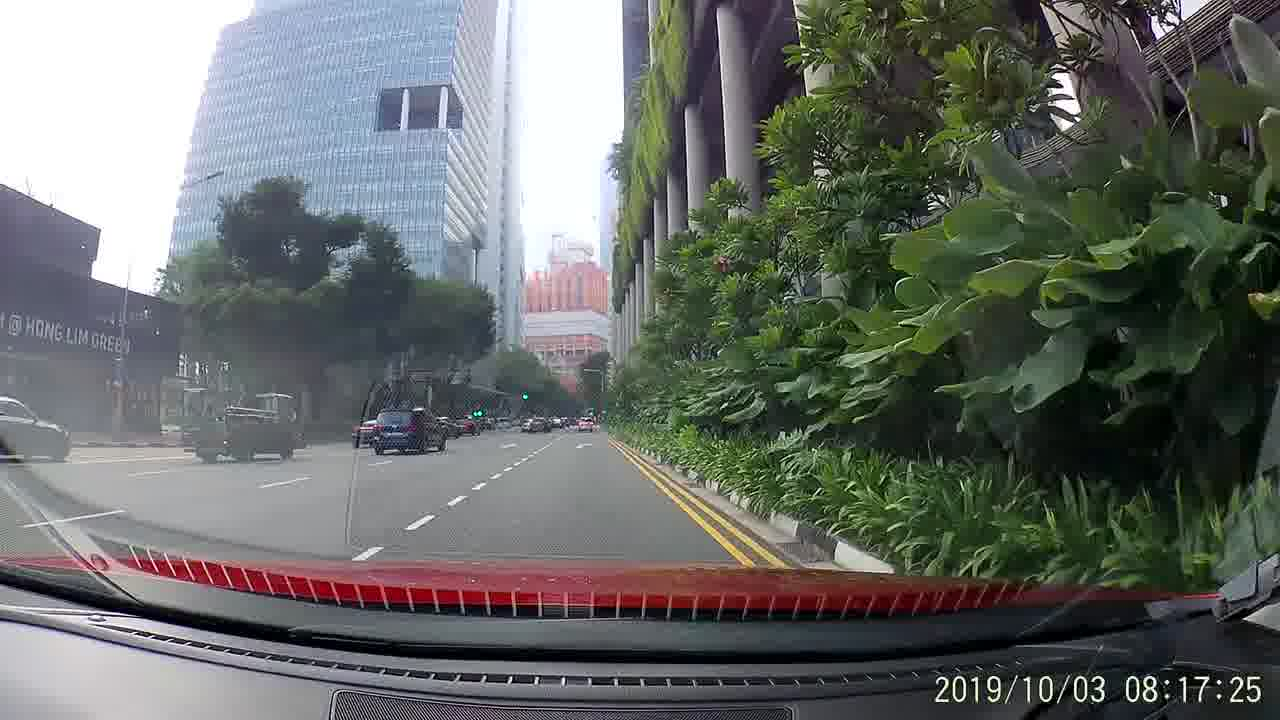car: (3, 395, 114, 461), (0, 394, 75, 464), (367, 406, 445, 456), (373, 399, 450, 448), (350, 416, 383, 449), (524, 406, 550, 431), (455, 406, 483, 429), (573, 414, 597, 433), (528, 416, 550, 433)
